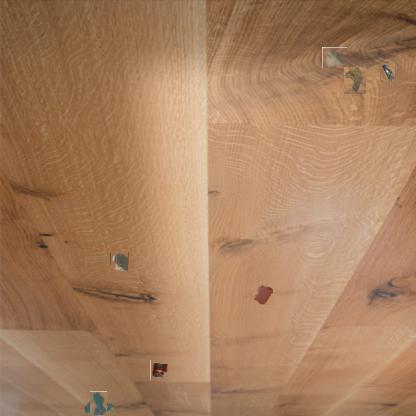dirty: (344, 68, 366, 96), (322, 47, 347, 68), (150, 360, 169, 380), (110, 251, 128, 271), (379, 63, 395, 84)
liquid: (86, 395, 110, 416), (253, 283, 275, 305)
